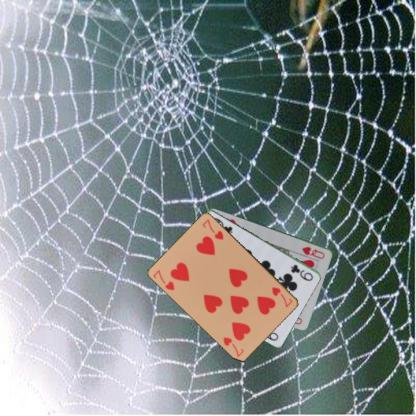7h: (269, 284, 294, 309), (150, 267, 176, 291)
9c: (288, 262, 314, 282)
Qh: (299, 244, 326, 260)
